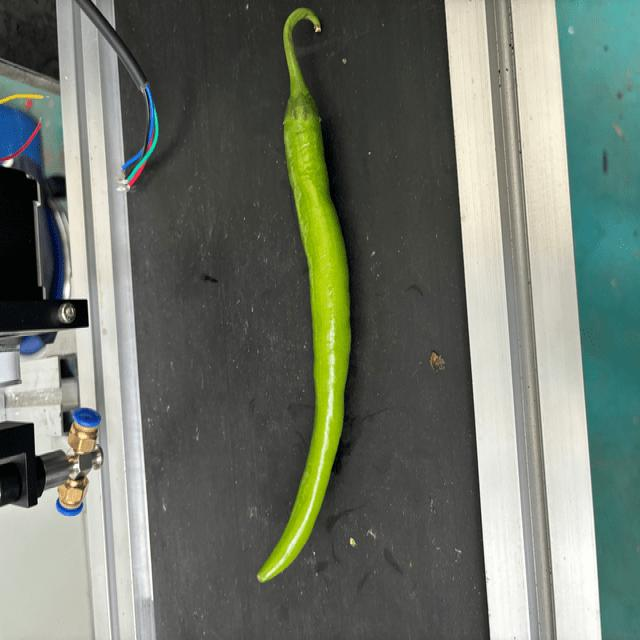chili: (250, 87, 353, 582)
